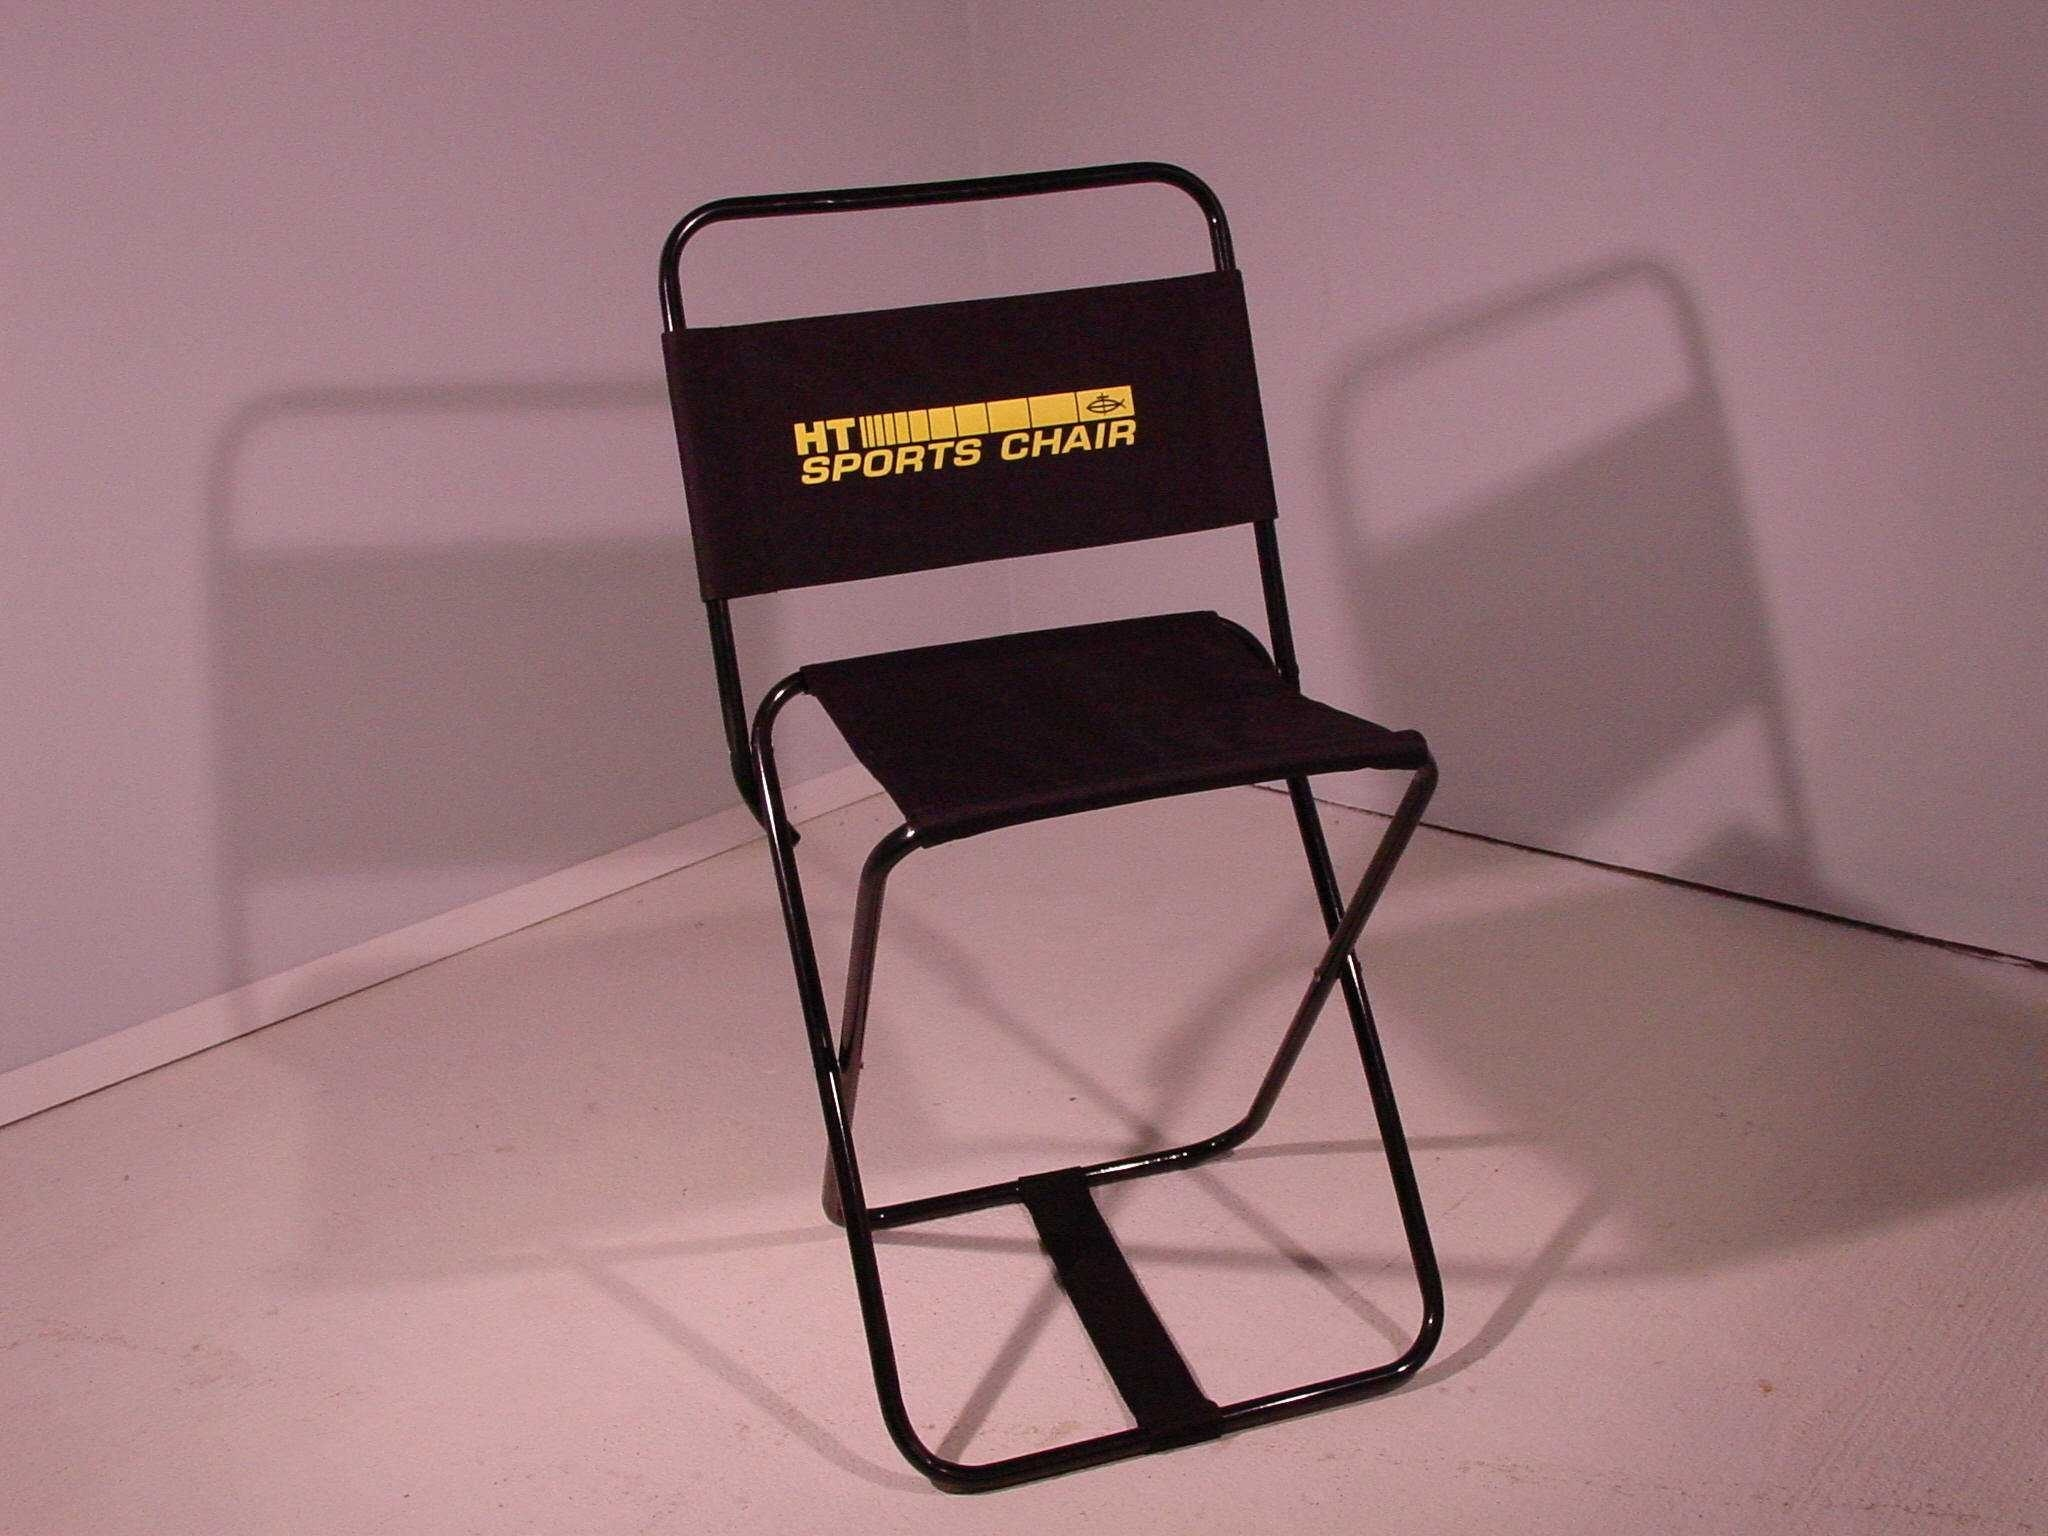obstacle: (660, 161, 1443, 1491)
